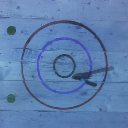Axe Tip: (78, 75, 90, 78)
